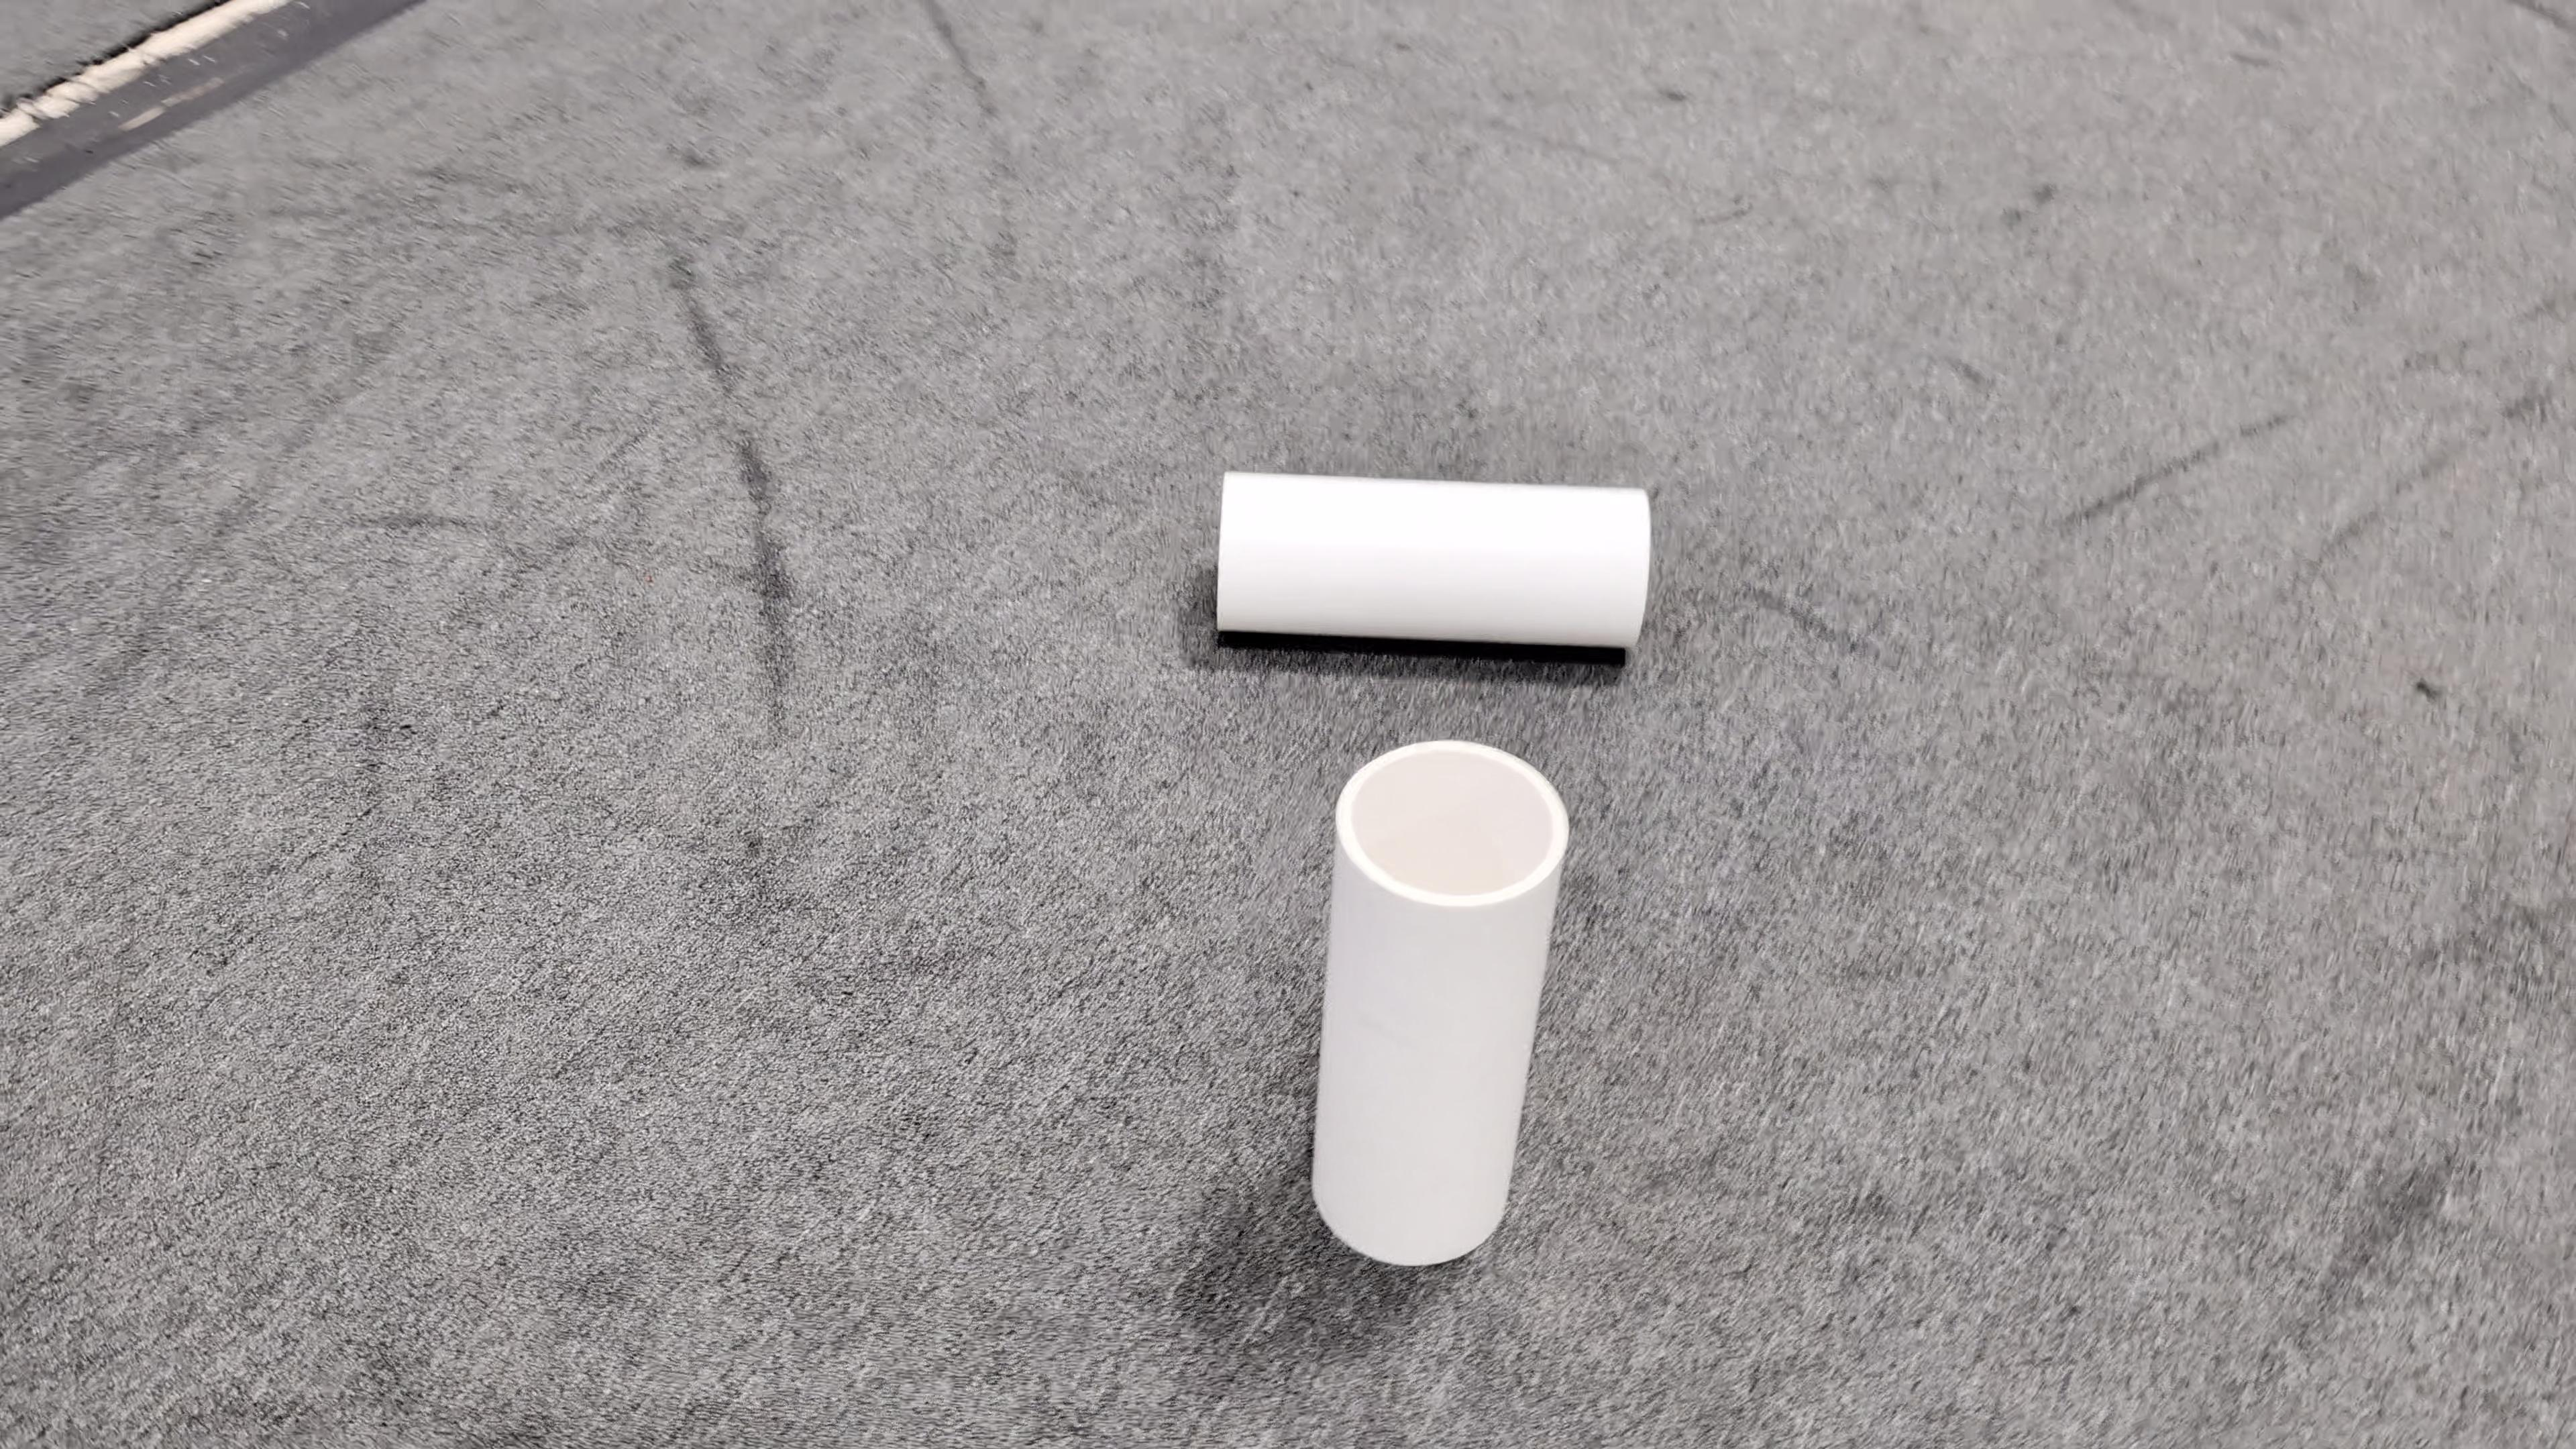coral: (1306, 738, 1573, 1263), (1214, 467, 1652, 651)
